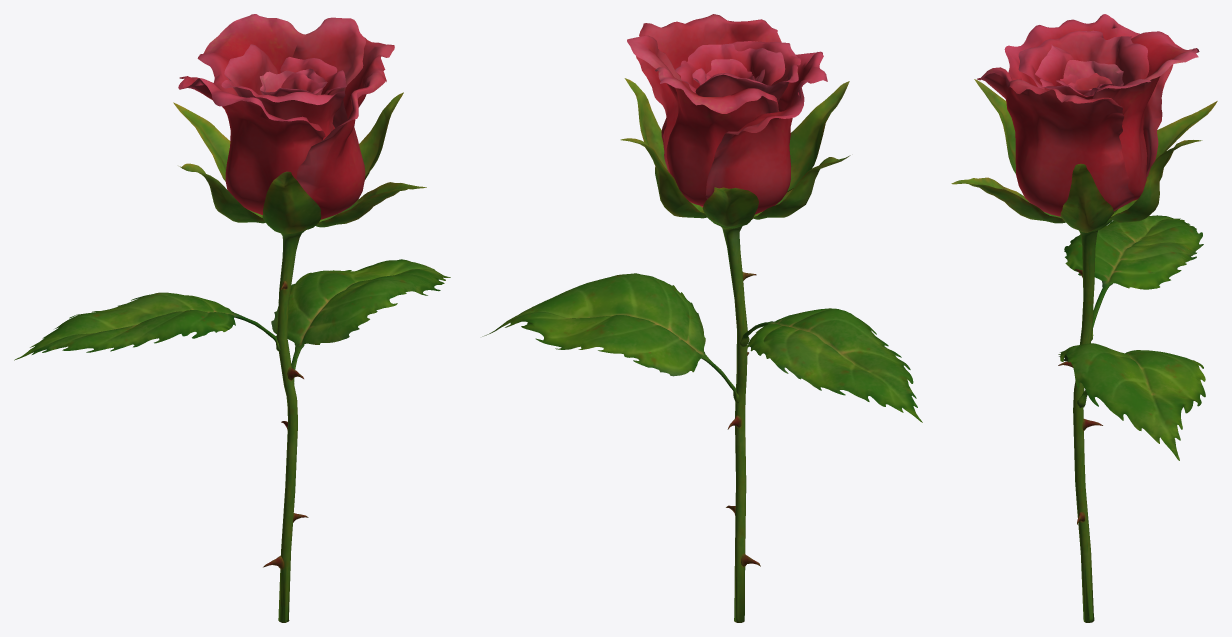
File: rose.glb
3 views of the same model, side by side, from view 1: azimuth 30°, elevation 25°; view 2: azimuth 150°, elevation 25°; view 3: azimuth 270°, elevation 25° (orthographic). The views are drawn at different scales.
Visible parts, largest first — view 1: Leaf_stems_hp; view 2: Leaf_stems_hp; view 3: Leaf_stems_hp.
Part boxes in pixels (left/top/right/bottom): Leaf_stems_hp: left=14, top=14, right=450, bottom=622; Leaf_stems_hp: left=482, top=14, right=922, bottom=622; Leaf_stems_hp: left=951, top=14, right=1217, bottom=622.
Bounding box in the file's own units: 1.26 × 1.56 × 0.6507.
Materials: 1 (1 with a texture image).
